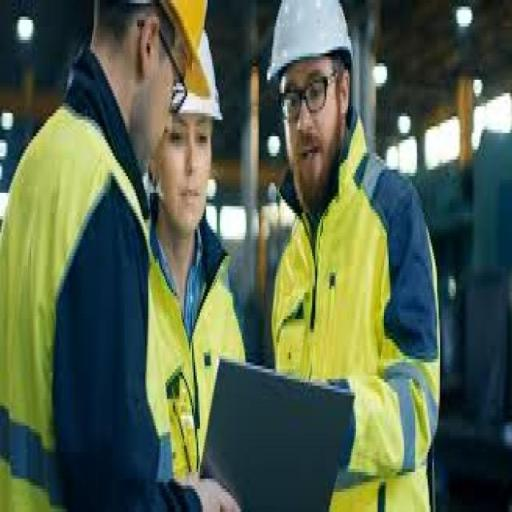helmet: (266, 0, 356, 90), (162, 6, 225, 130), (140, 0, 214, 99)
vest: (0, 93, 153, 502), (273, 156, 444, 509), (139, 212, 245, 486)
